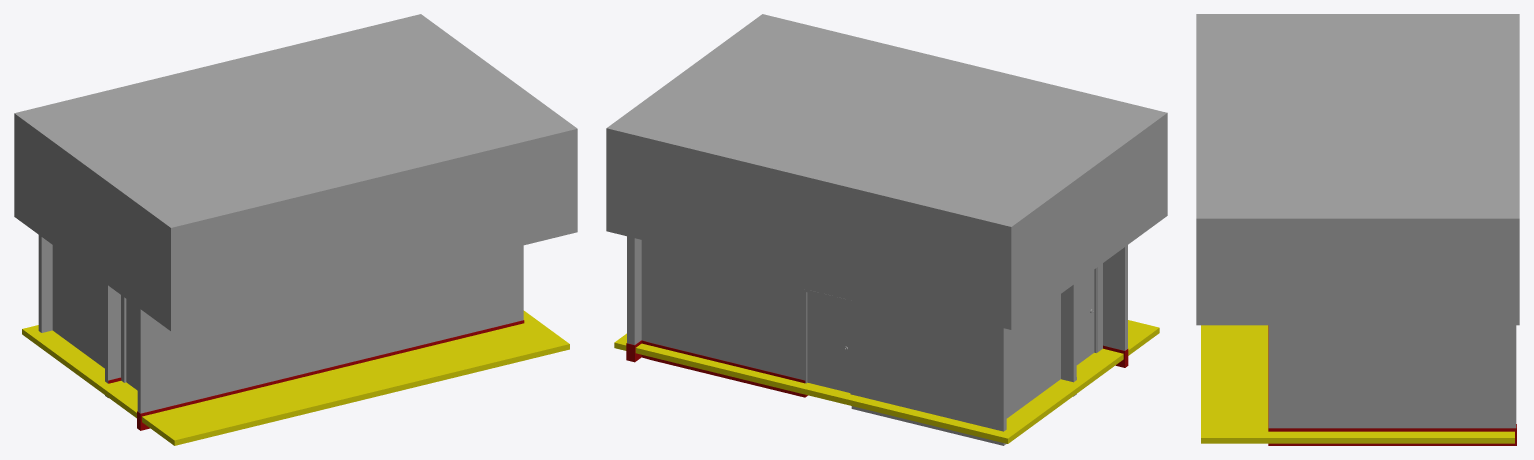
The model's file is Patient_room.fbx.
The picture shows the model from 3 angles, left to right: view 1: azimuth 30°, elevation 25°; view 2: azimuth 150°, elevation 25°; view 3: azimuth 270°, elevation 25°; orthographic projection. The views are drawn at different scales.
Parts seen in each view (by area): view 1: Ceeling1, pCube11, Floor1, Wall1, pCylinder8; view 2: Ceeling1, pCube11, Floor1, pCylinder6, pCylinder8, Wall1; view 3: Ceeling1, pCube11, Floor1.
Part boxes in pixels (left/top/right/bottom): Ceeling1: left=14, top=14, right=577, bottom=331; pCube11: left=38, top=235, right=524, bottom=430; Floor1: left=22, top=310, right=569, bottom=445; Wall1: left=105, top=283, right=121, bottom=397; pCylinder8: left=123, top=296, right=137, bottom=390; Ceeling1: left=606, top=14, right=1167, bottom=329; pCube11: left=626, top=236, right=1128, bottom=445; Floor1: left=614, top=320, right=1159, bottom=443; pCylinder6: left=804, top=289, right=852, bottom=394; pCylinder8: left=1076, top=268, right=1096, bottom=364; Wall1: left=1061, top=282, right=1076, bottom=396; Ceeling1: left=1196, top=14, right=1519, bottom=325; pCube11: left=1268, top=325, right=1516, bottom=445; Floor1: left=1201, top=325, right=1514, bottom=443.
Bounding box in the file's own units: 1035 × 559 × 691.
